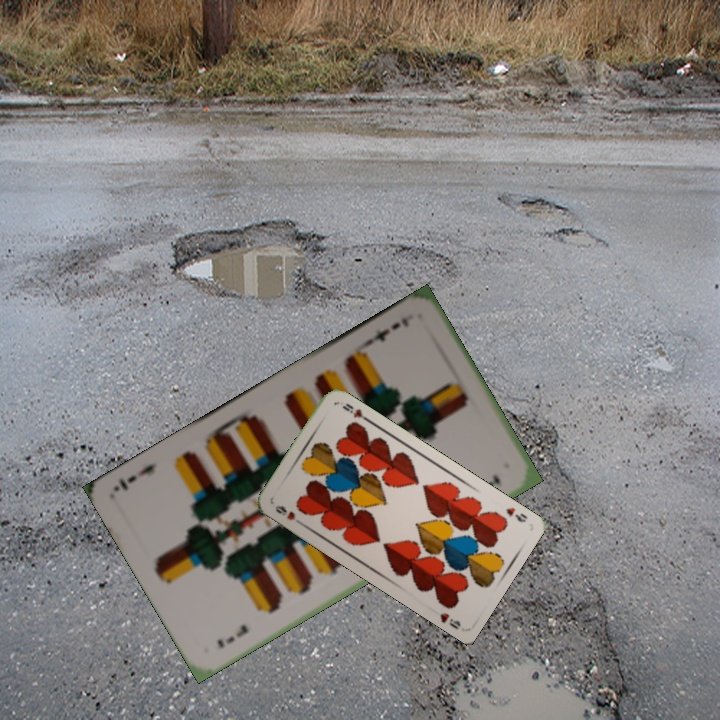E7: (362, 313, 412, 348), (213, 620, 251, 651)
H9: (271, 501, 306, 528), (502, 503, 530, 525)
